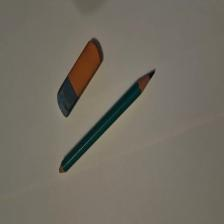eraser: (58, 41, 104, 119)
pencil: (60, 72, 156, 175)
